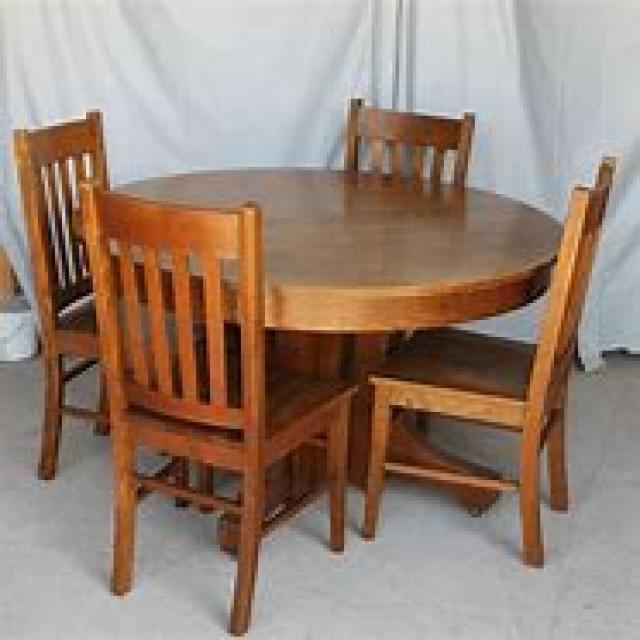chair: (76, 177, 358, 633), (358, 153, 616, 565), (10, 105, 214, 504)
table: (66, 163, 564, 524)
